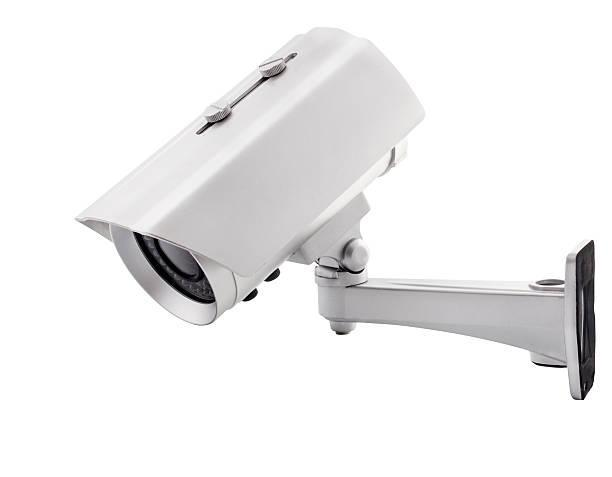camera: (69, 19, 429, 350)
